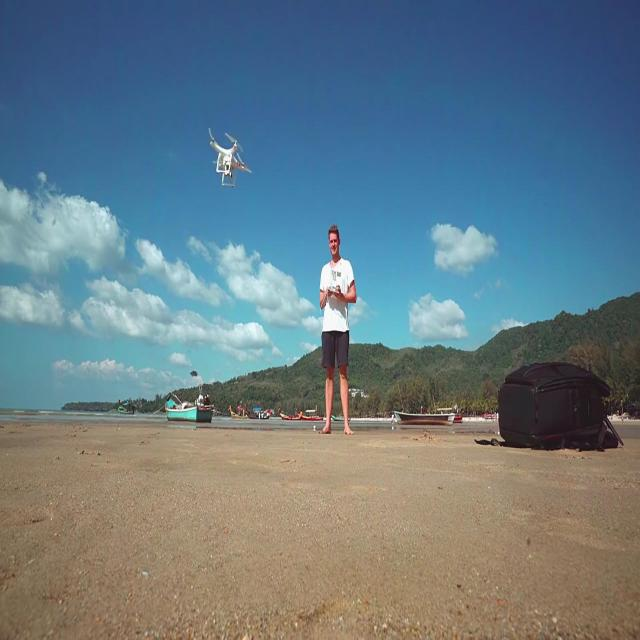drone: (206, 123, 254, 193)
